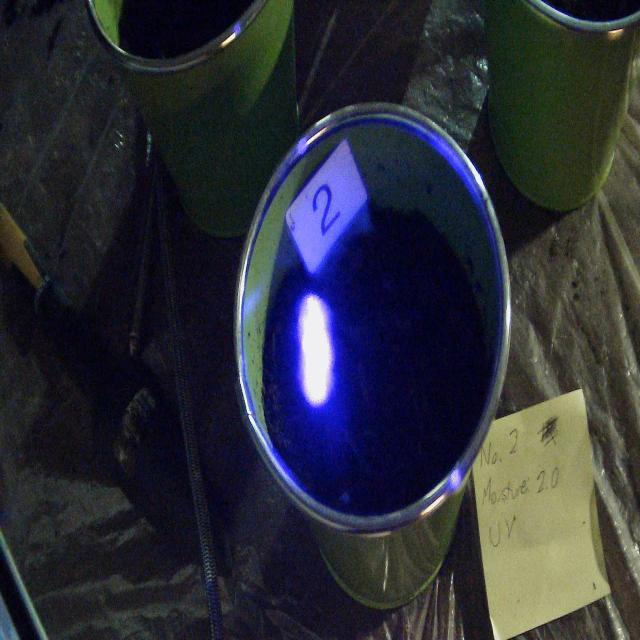soil-moisture-2.0: (290, 287, 337, 410)
